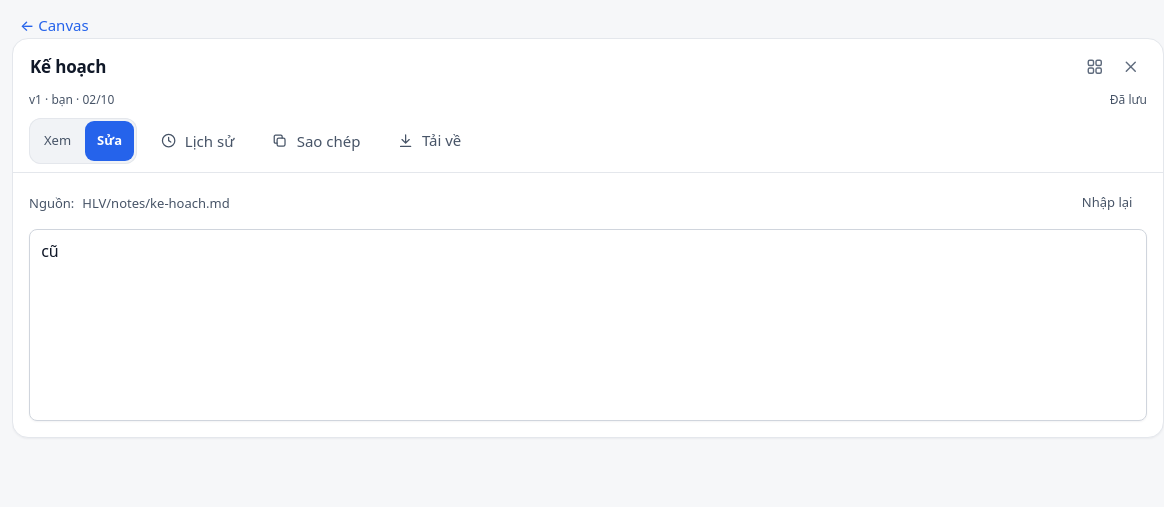
Test: a canvas on a page of its own › reads the canvas's file again, with no conversation to speak of
Click the button "Nhập lại" at (1107, 203), box [1067,185,1147,221]
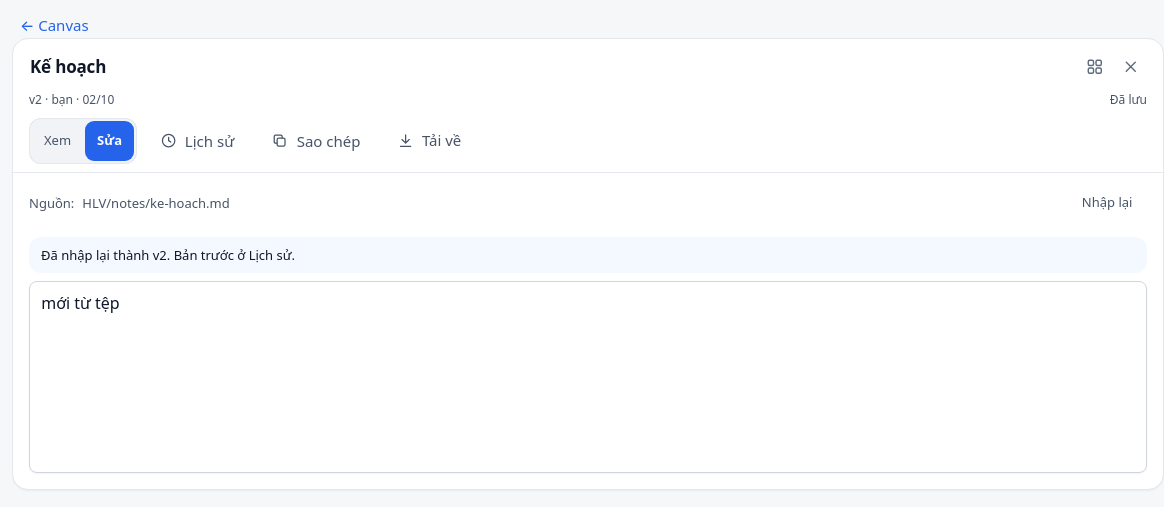
Expected: the text box named "Nội dung canvas" holds "mới từ tệp", [29,281,1147,473]
